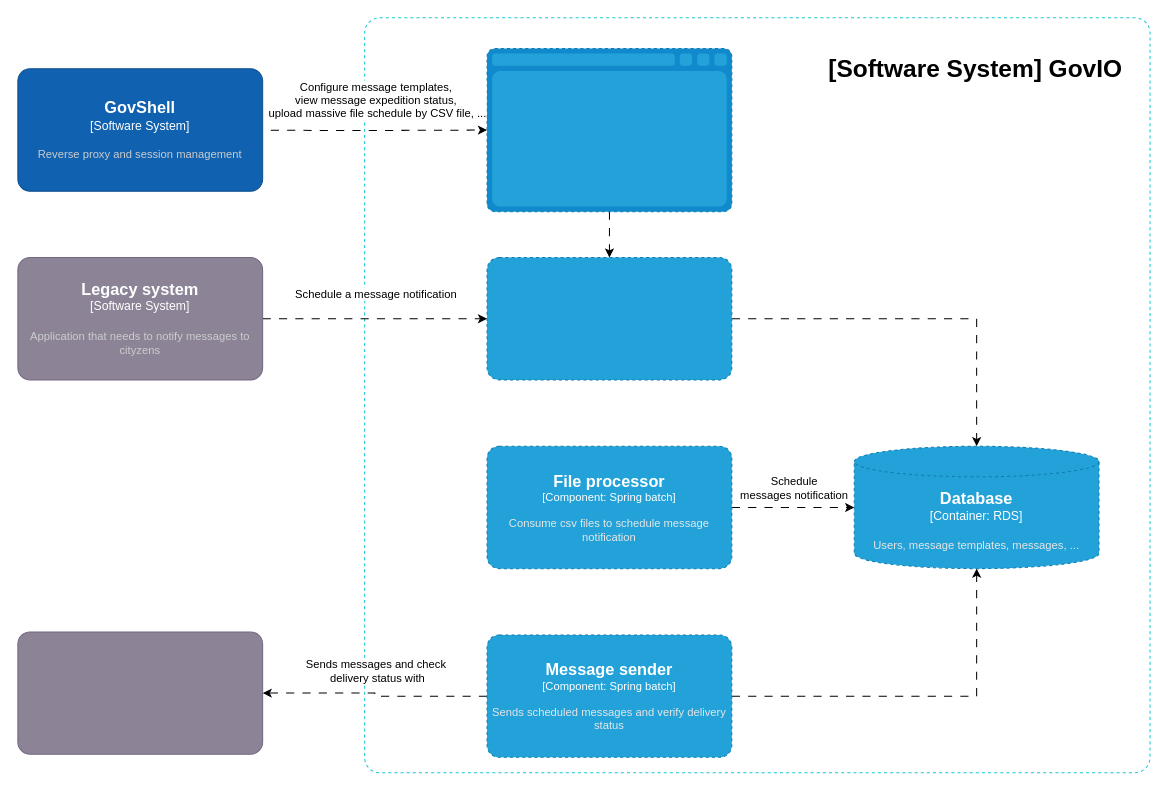
This 1168x791 diagram has some shape labels left out. The shapes that lost their labels are listed below. From the top down, each one's centre as x and y in pixels, then its label:
[609,129]: Backoffice [Container: Angular] Monitor e configuration console
[609,318]: GovIO API [Component: Spring boot] ReST API to monitor and configure
[140,692]: Backoffice IO [Software System] National messaging system for AppIO
